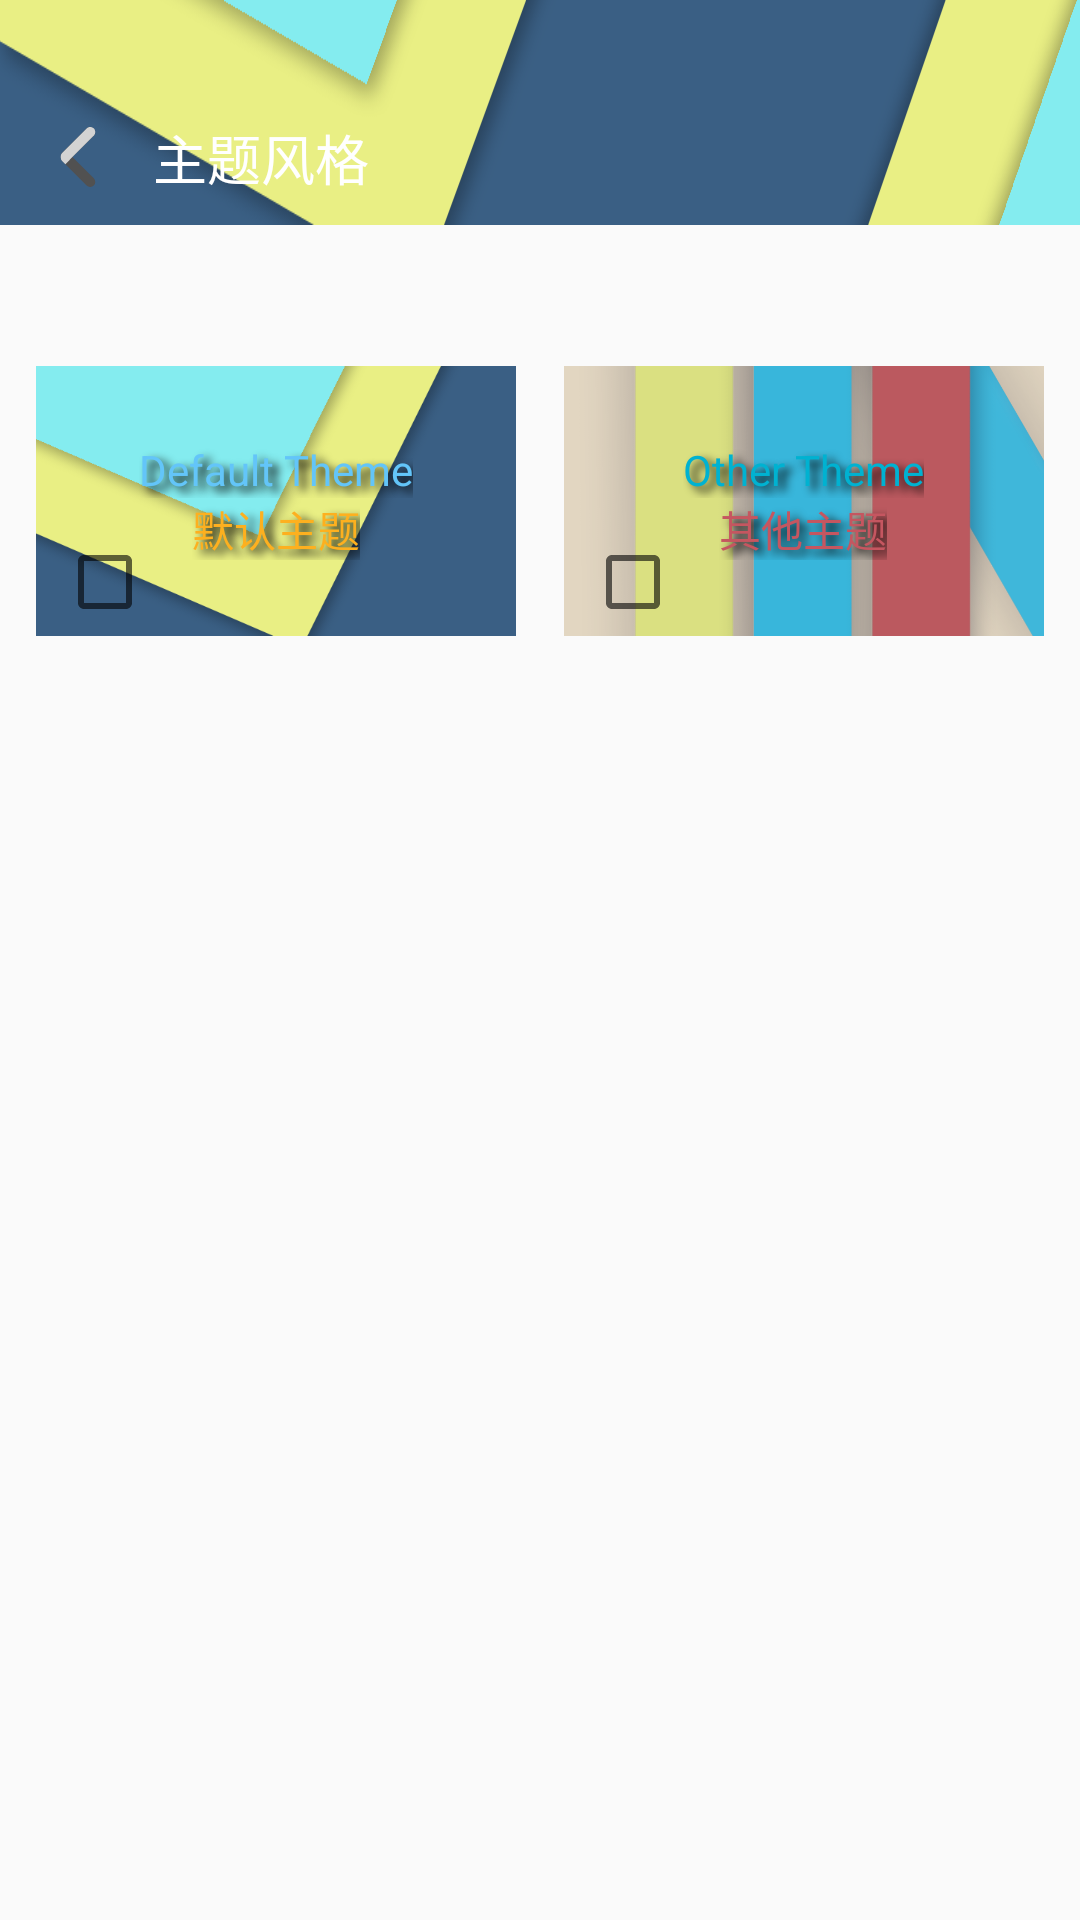

Where to tap for icons on this 1080*1920 app screen, as (x,y):
返回: (78,157)
